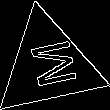M_W: (20, 38, 77, 93)
